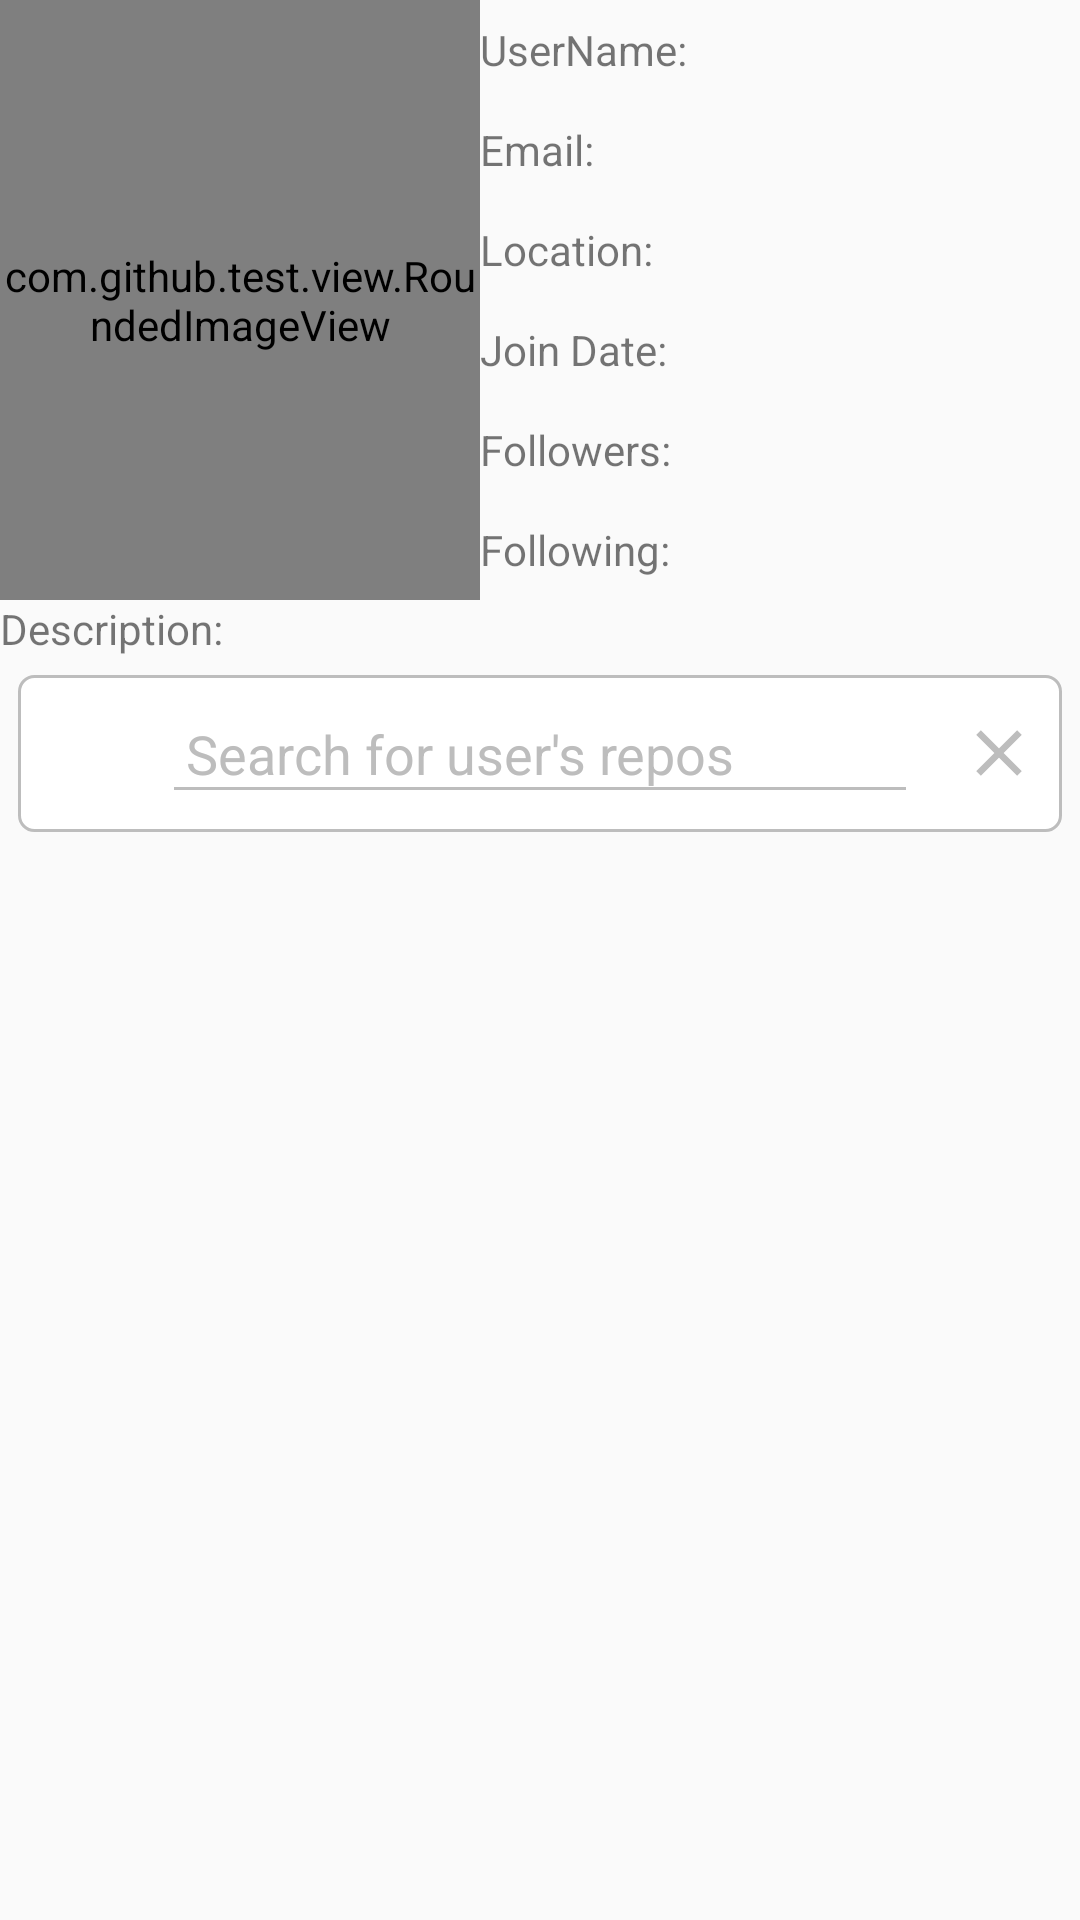

Screen size 1080px×1920px. Icon name, then its box in pixels as BBox(x1, y1, x2, y2):
close: BBox(977, 731, 1021, 775)
